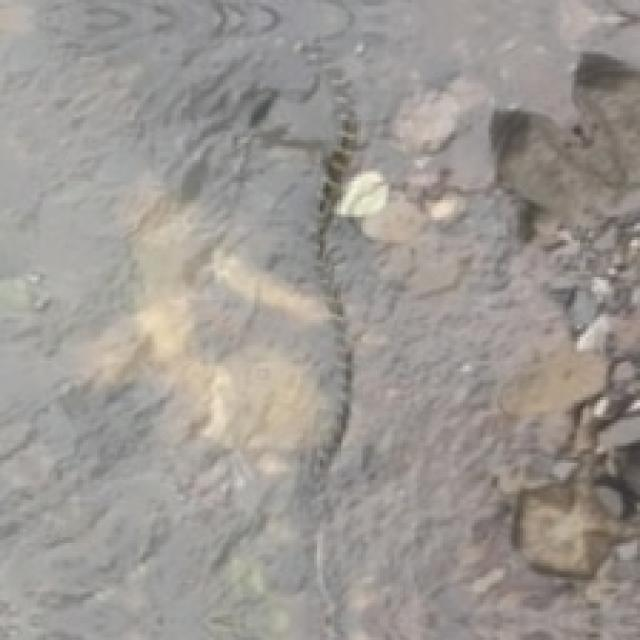mangrove cat snake: (314, 49, 357, 471), (317, 49, 357, 494)
